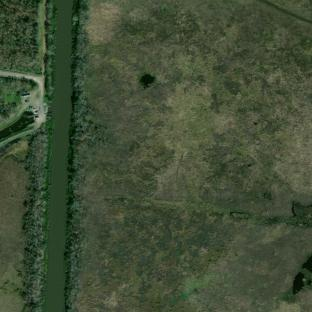Floresta: (65, 0, 95, 312), (23, 120, 54, 312), (0, 0, 40, 72), (44, 0, 57, 101)
